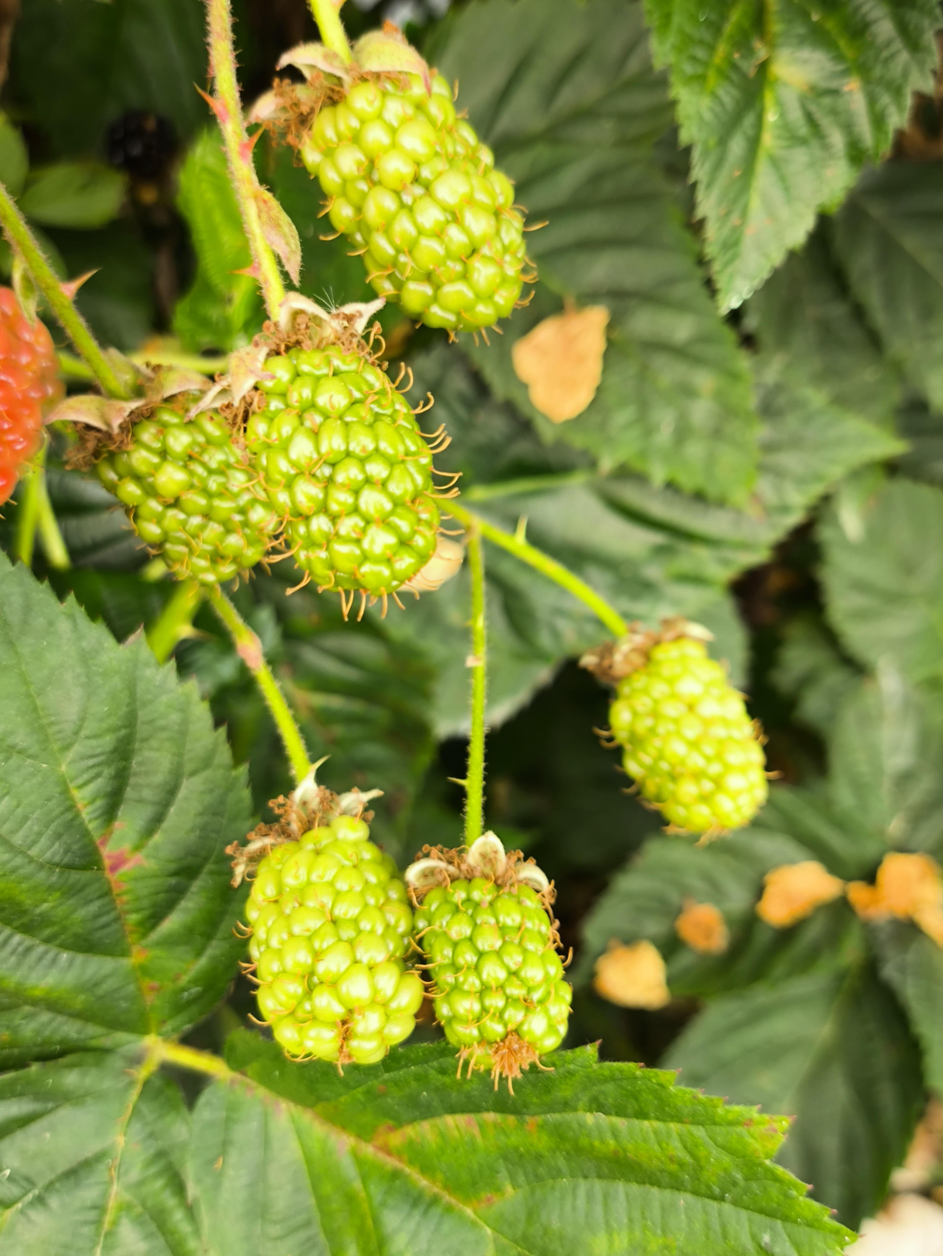naranja: (0, 287, 63, 504)
verde: (300, 31, 527, 335), (243, 343, 439, 610), (407, 834, 572, 1089), (249, 816, 414, 1063), (98, 406, 274, 584), (610, 637, 767, 833)
